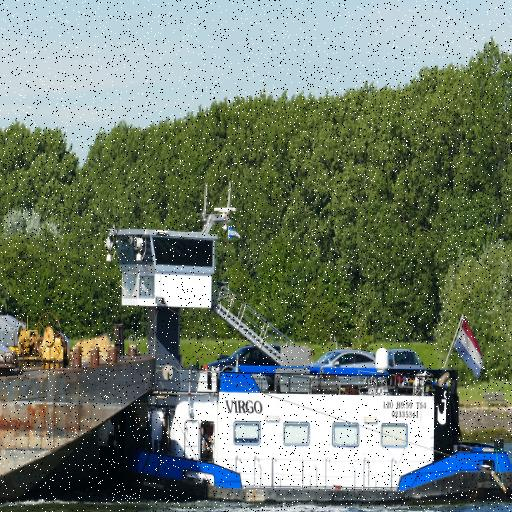tugboat: (68, 179, 512, 512)
